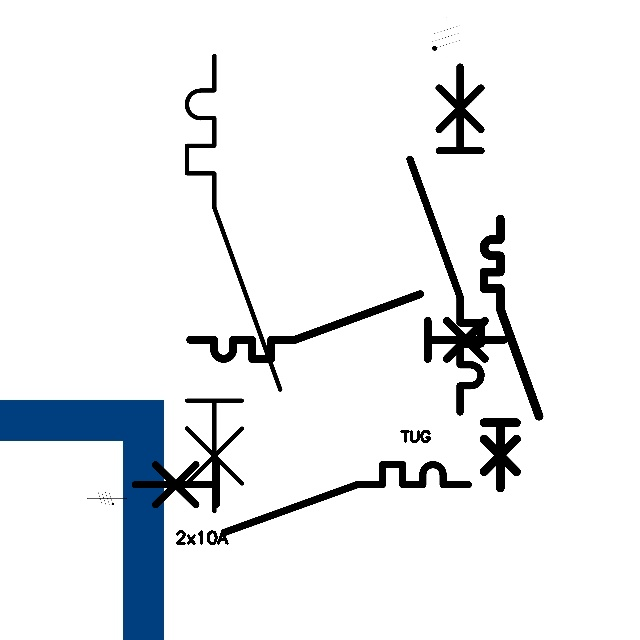interruptor_termomagnetico: (175, 44, 292, 523), (401, 58, 490, 421), (126, 456, 476, 541), (182, 286, 512, 367), (477, 212, 546, 495)
